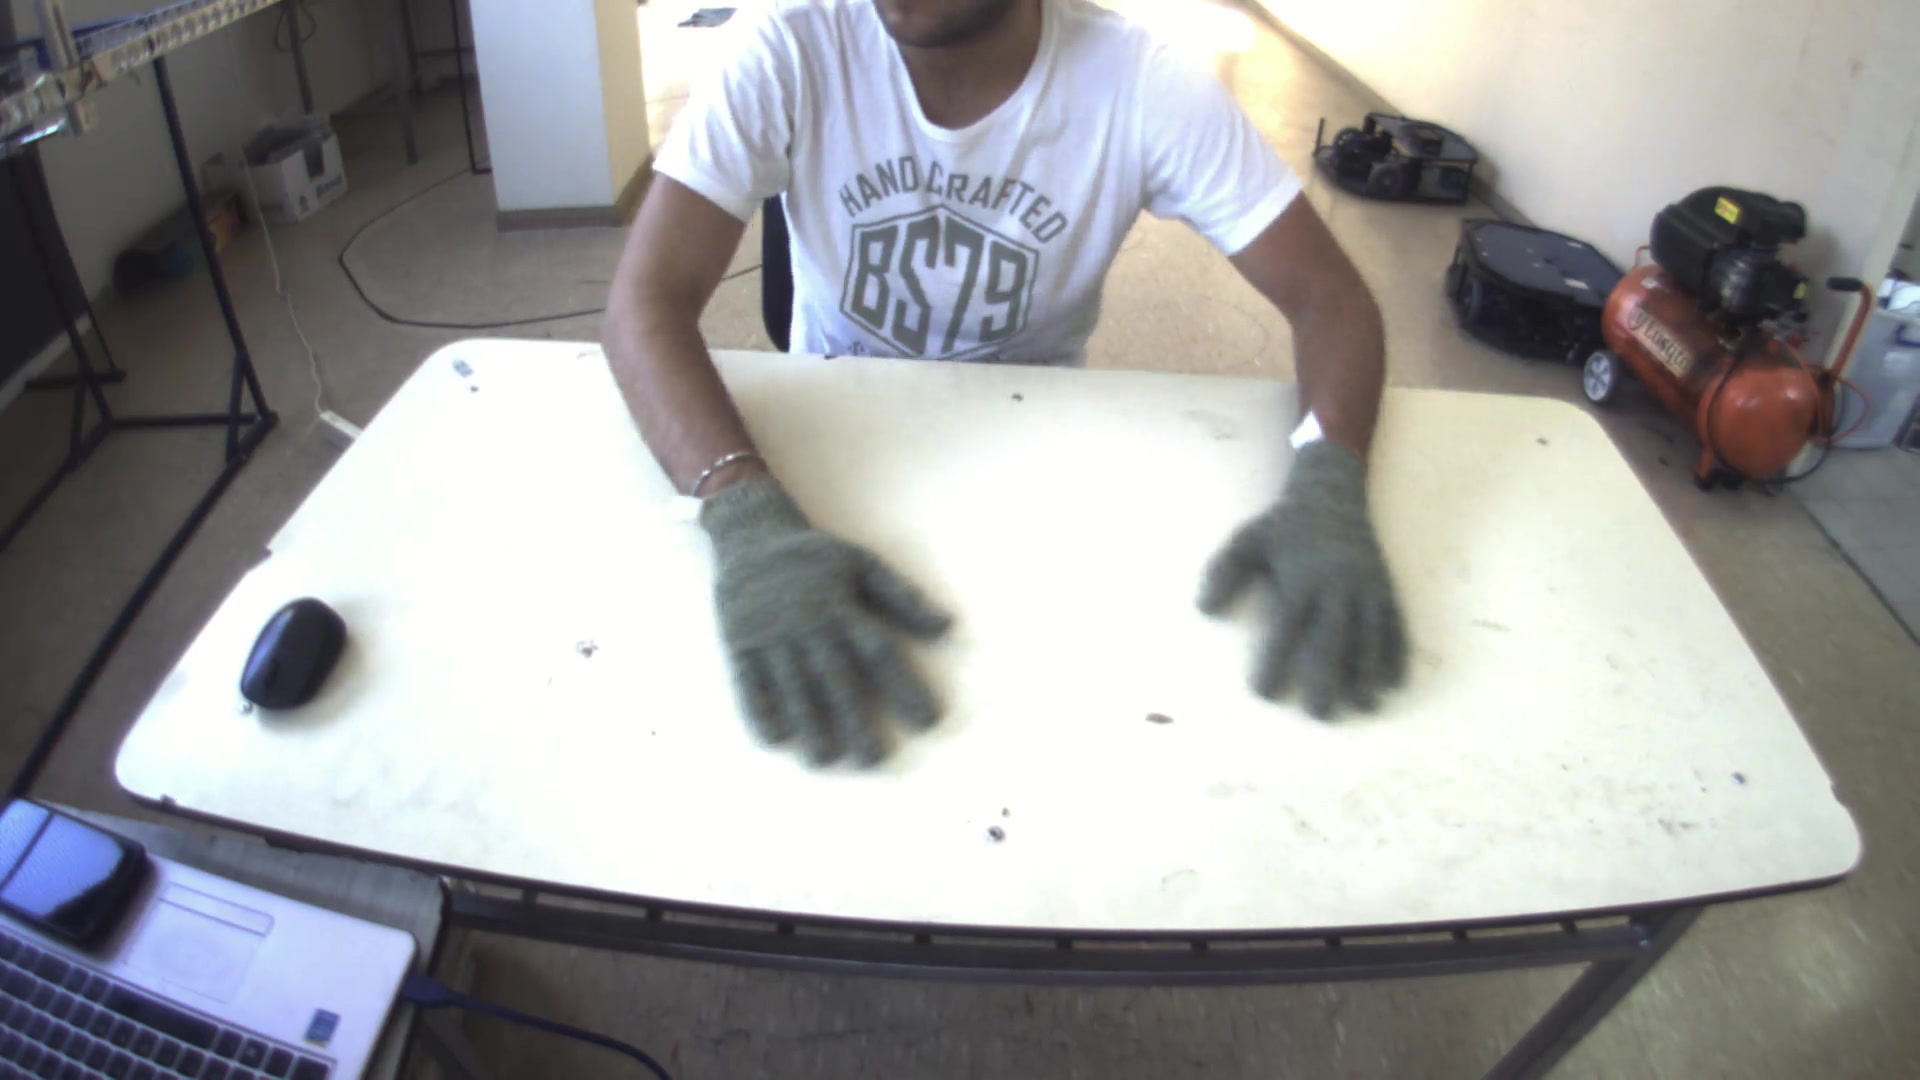hand: (680, 480, 969, 775), (1203, 436, 1435, 721)
